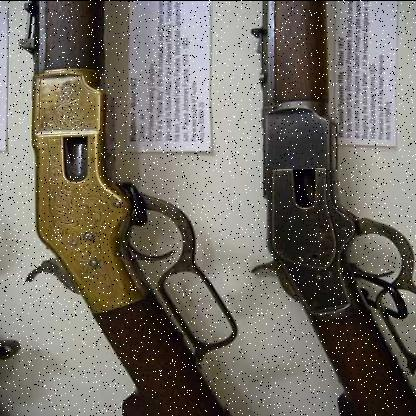rifle: (17, 31, 230, 416), (235, 22, 415, 394)
